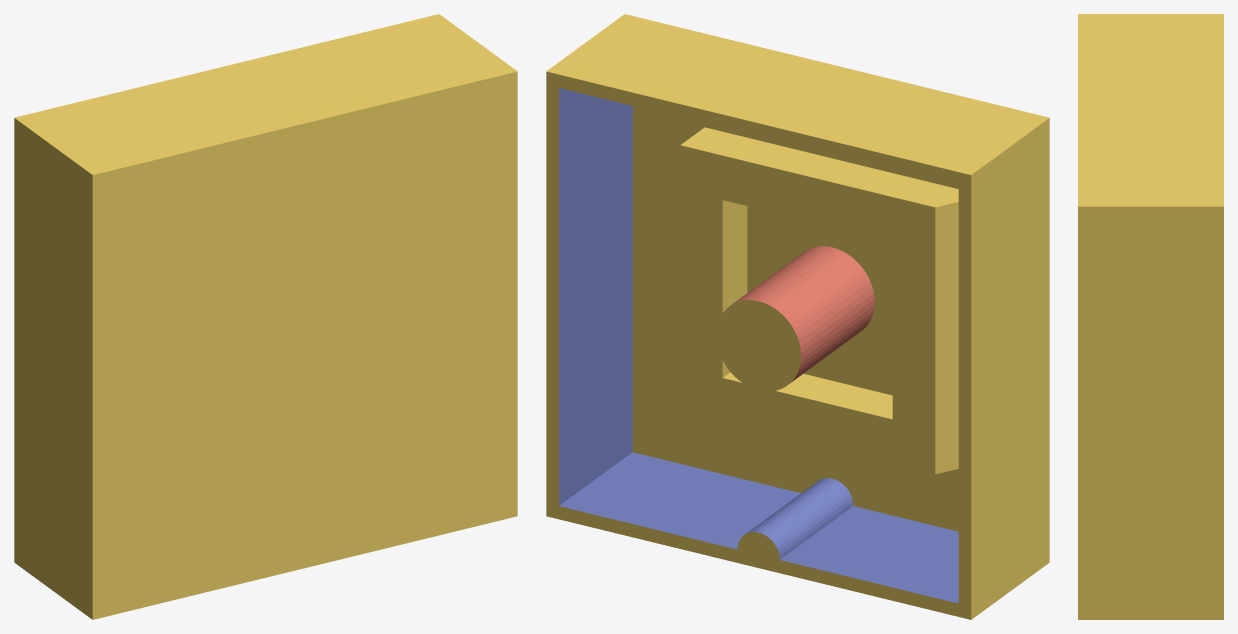
Rendered from cubeplane1.glb.
The picture shows the model from 3 angles, left to right: view 1: azimuth 30°, elevation 25°; view 2: azimuth 150°, elevation 25°; view 3: azimuth 270°, elevation 25°; orthographic projection. The views are drawn at different scales.
Visible parts, largest first — view 1: imagetostl_mesh0; view 2: imagetostl_mesh0; view 3: imagetostl_mesh0.
Part boxes in pixels (bbox=[...]): imagetostl_mesh0: bbox=[14, 14, 517, 619]; imagetostl_mesh0: bbox=[546, 14, 1049, 619]; imagetostl_mesh0: bbox=[1078, 14, 1223, 619].
Bounding box in the file's own units: 1270 × 1270 × 406.
